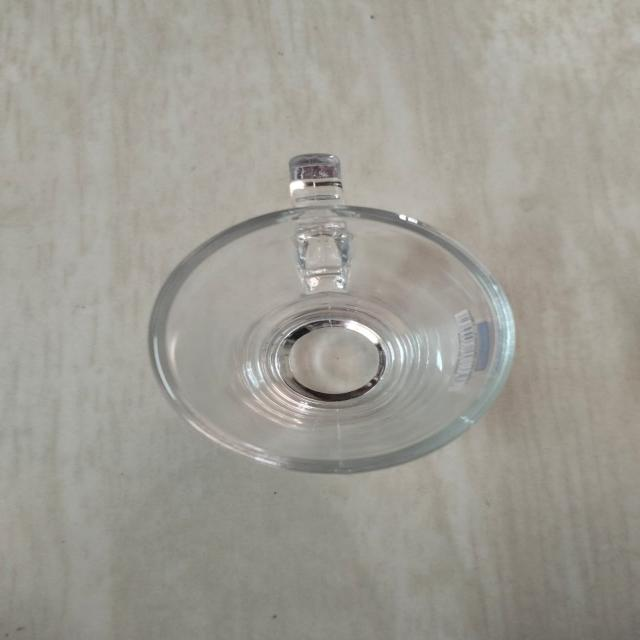glass-VX4N: (148, 153, 511, 477), (0, 349, 31, 349)
